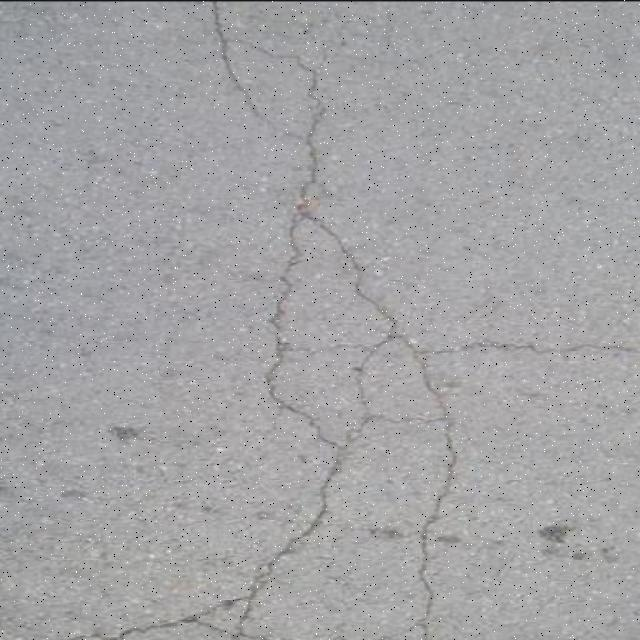Crack: (180, 0, 453, 639), (265, 188, 373, 398), (379, 459, 453, 640), (411, 338, 639, 355), (88, 619, 182, 640), (382, 308, 398, 341), (190, 616, 209, 624), (210, 626, 228, 632)
